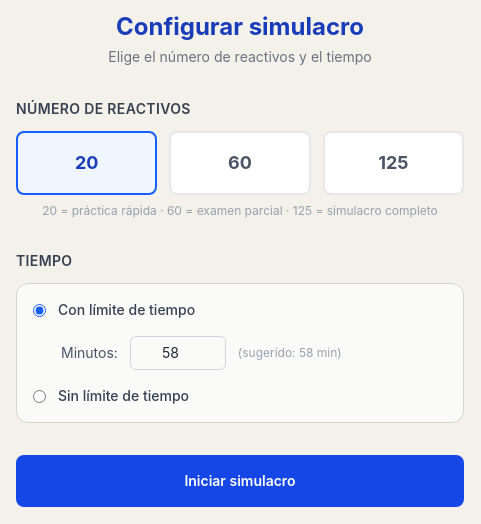
Test: SizePicker › el input de minutos se oculta al elegir sin límite
This screenshot has width=481, height=524.
Click the radio button labelled "Sin límite de tiempo".
click(40, 396)  # box [33,390,46,402]
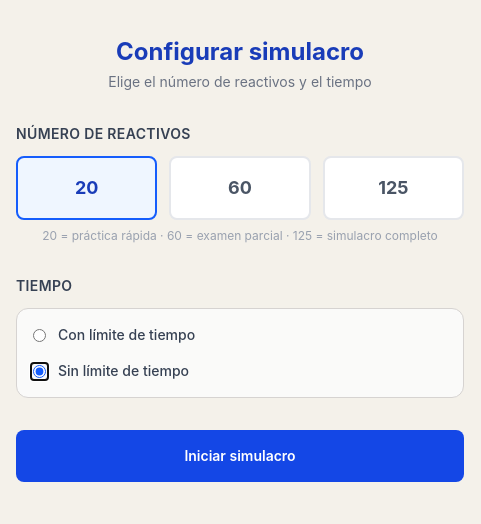
Now the label "Minutos" is gone
